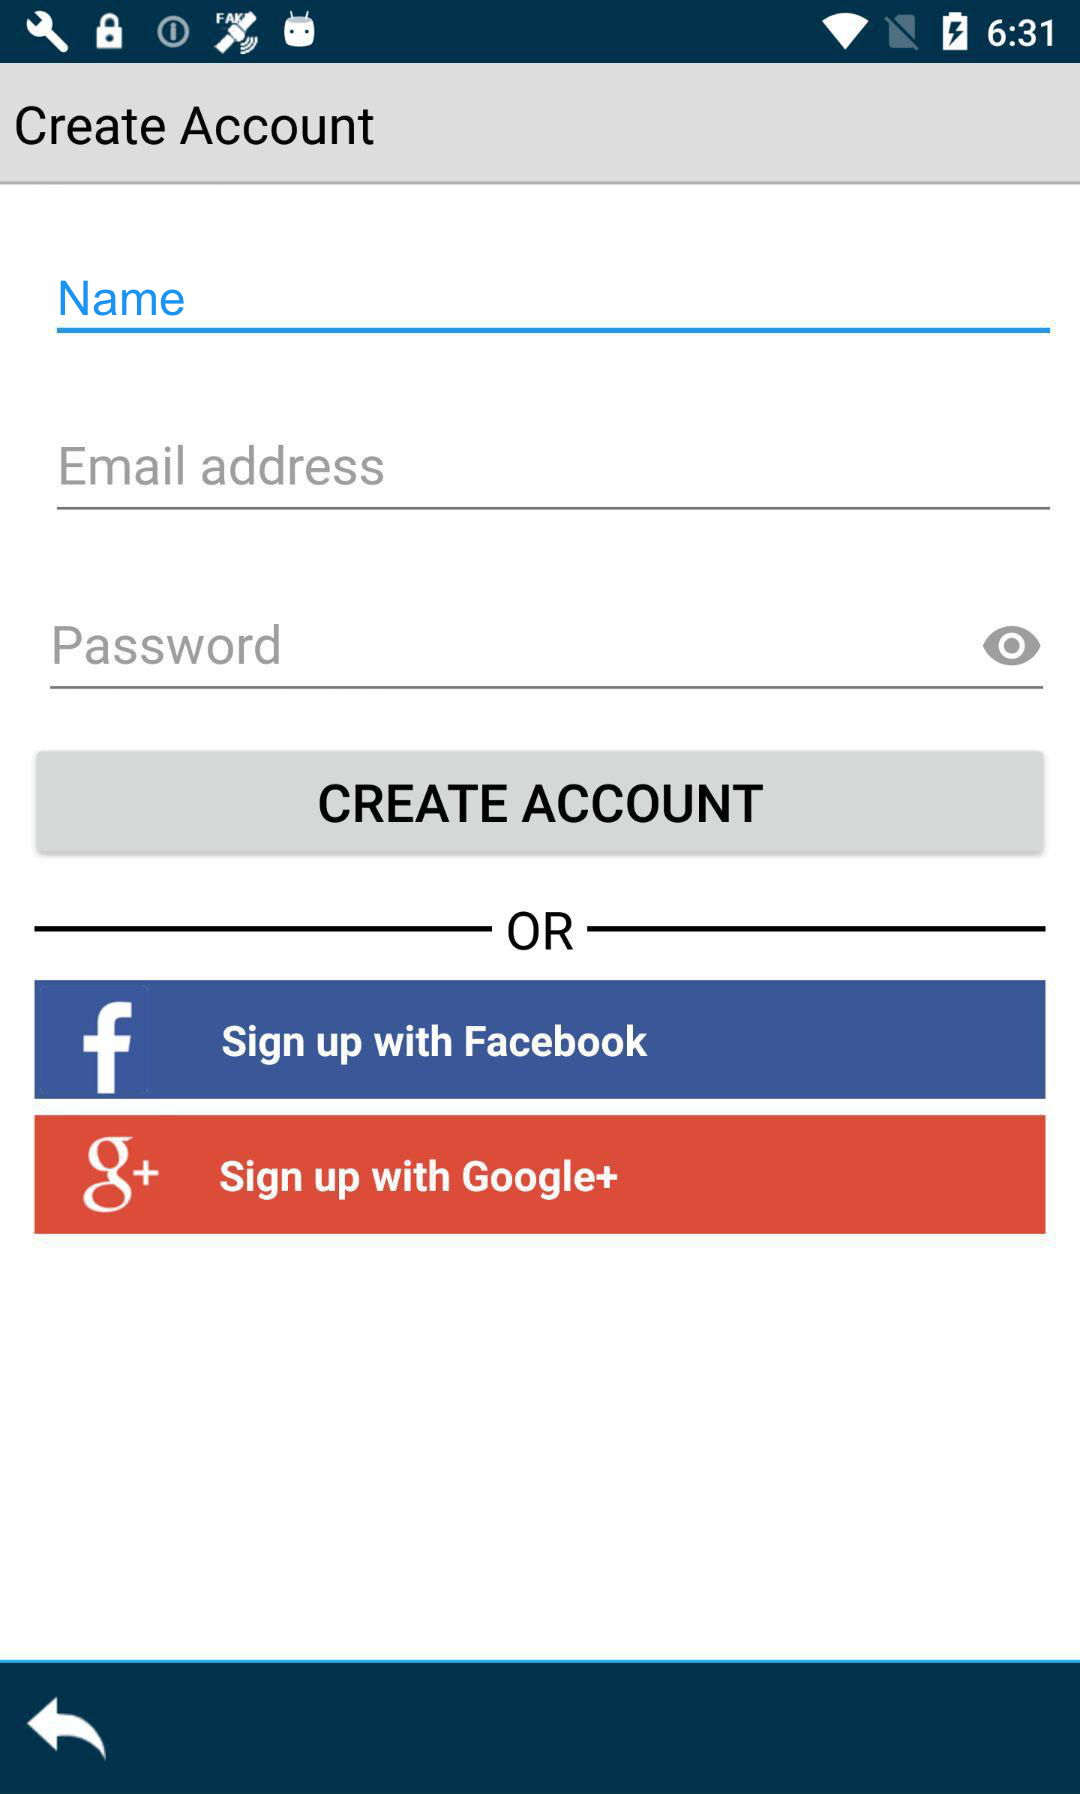EditText: (56, 445, 1051, 513), (50, 624, 1044, 689), (56, 281, 1051, 334)
Icon: (27, 1695, 108, 1763), (983, 627, 1042, 668)
Text: (15, 105, 375, 147), (61, 445, 386, 486), (54, 624, 281, 666), (61, 281, 186, 318), (506, 909, 578, 959)
TextButton: (35, 1115, 1045, 1235), (35, 980, 1045, 1099), (36, 751, 1044, 859)
Toolbar: (1, 64, 1077, 185)
UpperTaskBar: (1, 1, 1080, 64)
